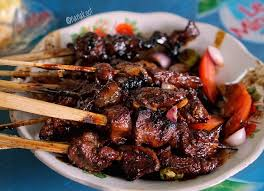sate: (34, 6, 264, 188)
